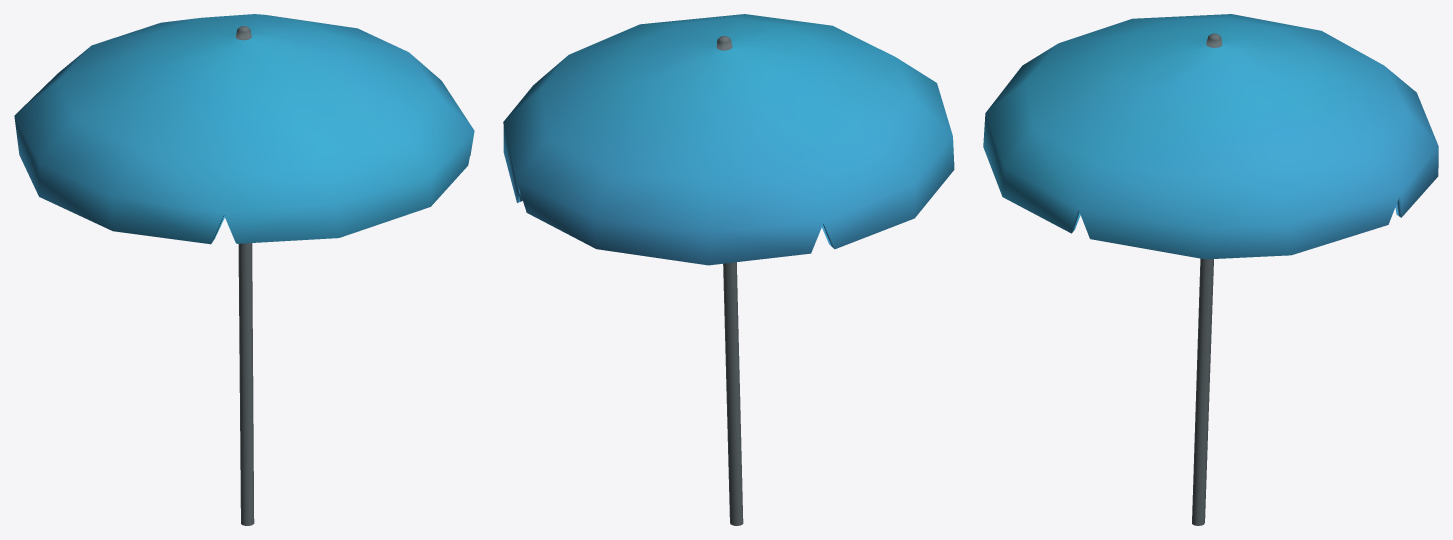
Rendered from Umbrella_Blue.fbx.
3 views of the same model, side by side, from view 1: azimuth 30°, elevation 25°; view 2: azimuth 150°, elevation 25°; view 3: azimuth 270°, elevation 25° (orthographic).
Parts seen in each view (by area): view 1: Umbrella_Blue; view 2: Umbrella_Blue; view 3: Umbrella_Blue.
Boxes of the visible parts, <box> form: Umbrella_Blue: <box>14,14,474,525</box>; Umbrella_Blue: <box>503,14,954,525</box>; Umbrella_Blue: <box>983,14,1438,525</box>.
Bounding box in the file's own units: 187 × 223 × 187.
1 material, 1 textured.
